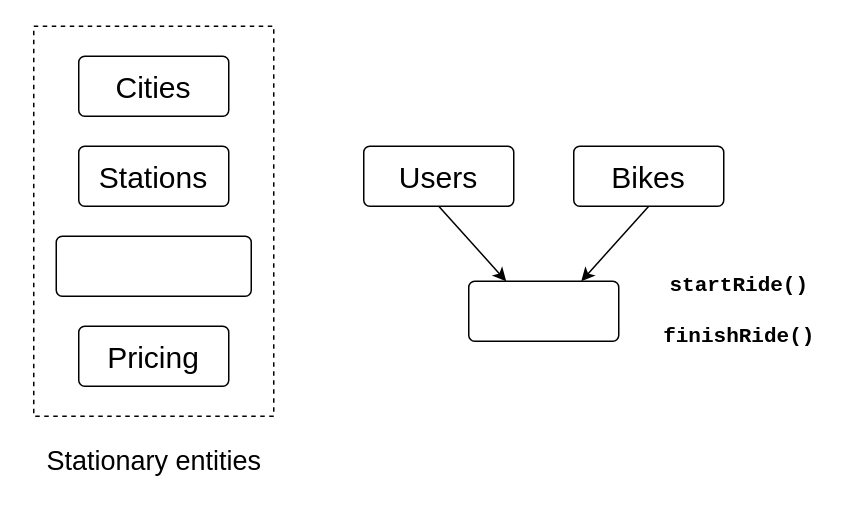
Image size: 854x518. Some labels were removed from this diagram. Here are the shapes that lost their labels. From the top down, the centre of each, then its label:
At pixel 153 265: "Park. zones".
At pixel 543 310: "Rides".
